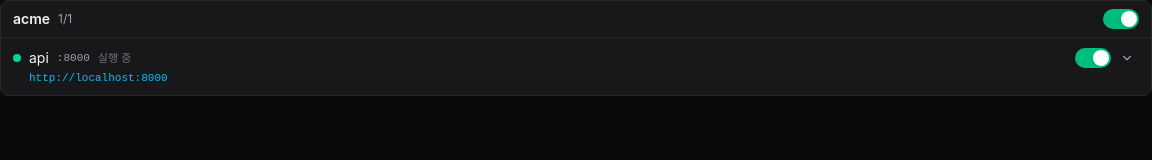
GroupCard › stop_service 가 '' 로 실패하면 '끄지 못했습니다.' 을 보여준다
Click the switch named "acme 전체".
click(1121, 19)  # box [1103,9,1139,29]
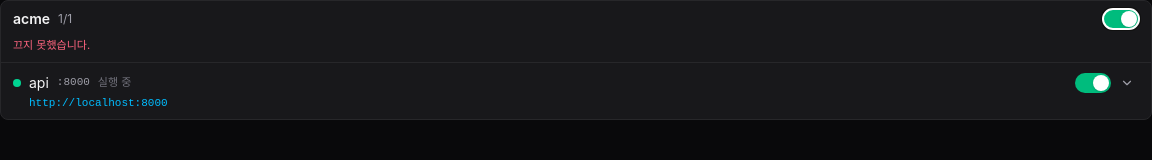
Check: the message reads "끄지 못했습니다.", box [13,38,90,52]
